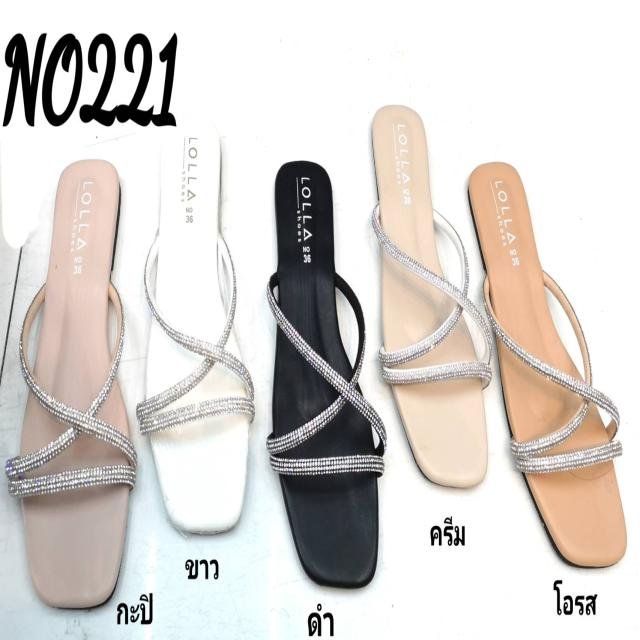black: (262, 161, 381, 583)
cream: (364, 109, 488, 487)
kapi: (22, 158, 128, 606)
orot: (471, 162, 626, 561)
white: (143, 126, 244, 536)
